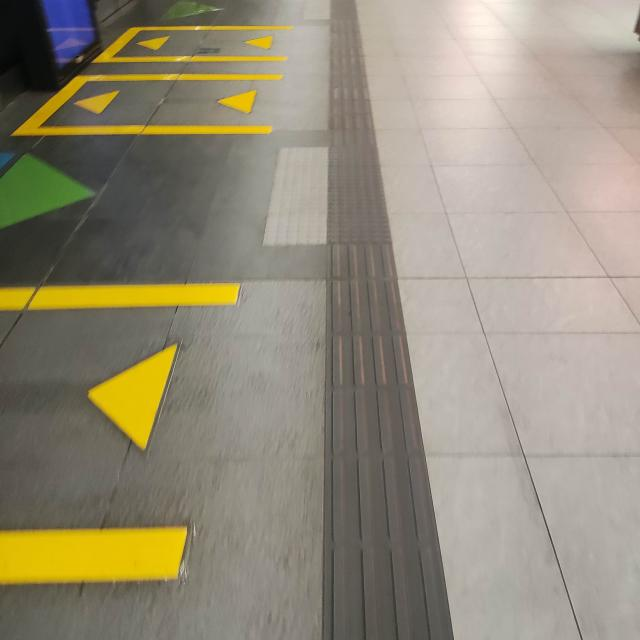lurus: (309, 2, 452, 640)
